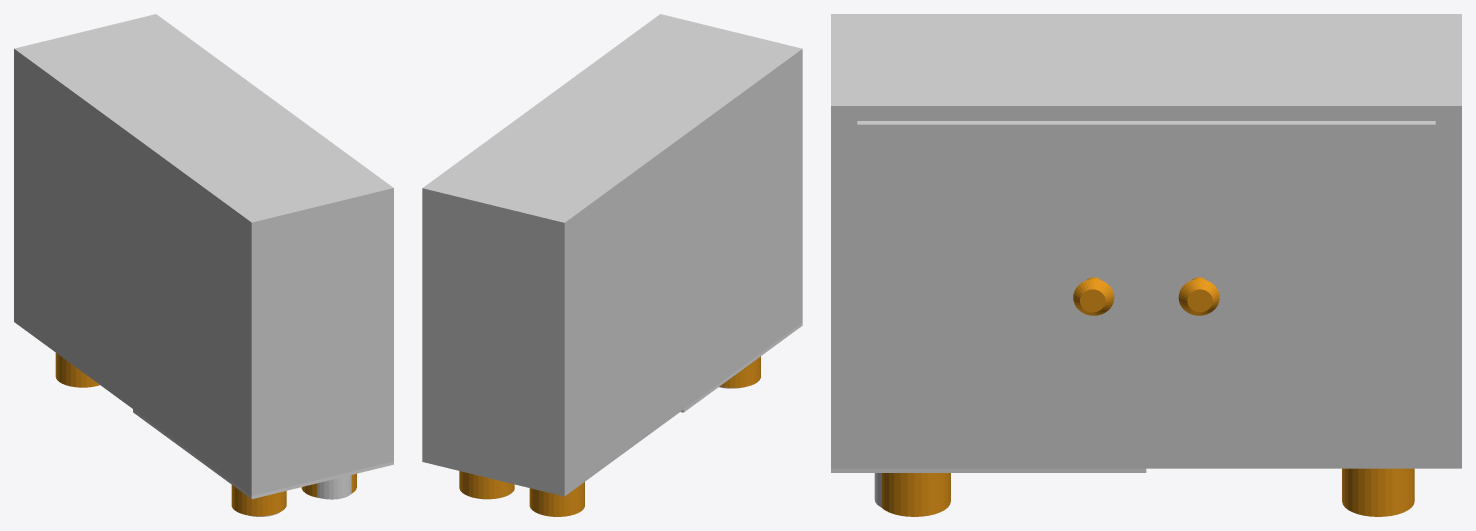
The model's file is Mueble2.fbx.
3 views of the same model, side by side, from view 1: azimuth 30°, elevation 25°; view 2: azimuth 150°, elevation 25°; view 3: azimuth 270°, elevation 25° (orthographic). The views are drawn at different scales.
Visible parts, largest first — view 1: Cube, Cube.001; view 2: Cube, Cube.001; view 3: Cube, Cube.001.
Boxes of the visible parts, x1=… form: Cube: x1=14, y1=14, x2=393, y2=516; Cube.001: x1=133, y1=409, x2=393, y2=516; Cube: x1=422, y1=14, x2=802, y2=516; Cube.001: x1=680, y1=322, x2=802, y2=412; Cube: x1=831, y1=14, x2=1461, y2=516; Cube.001: x1=831, y1=468, x2=1146, y2=507.
Bounding box in the file's own units: 239 × 425 × 580.
